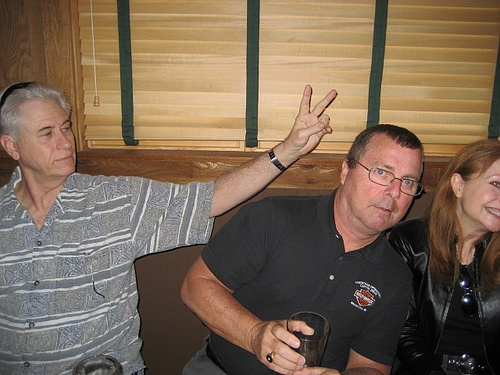head: (335, 118, 426, 232), (1, 86, 78, 177), (446, 137, 500, 239)
person: (1, 71, 346, 375), (171, 113, 425, 375), (389, 134, 500, 373)
